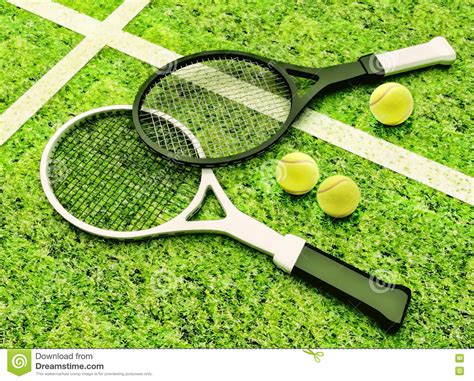tennis_ball: (369, 82, 414, 125), (315, 174, 359, 217), (276, 152, 319, 195)
